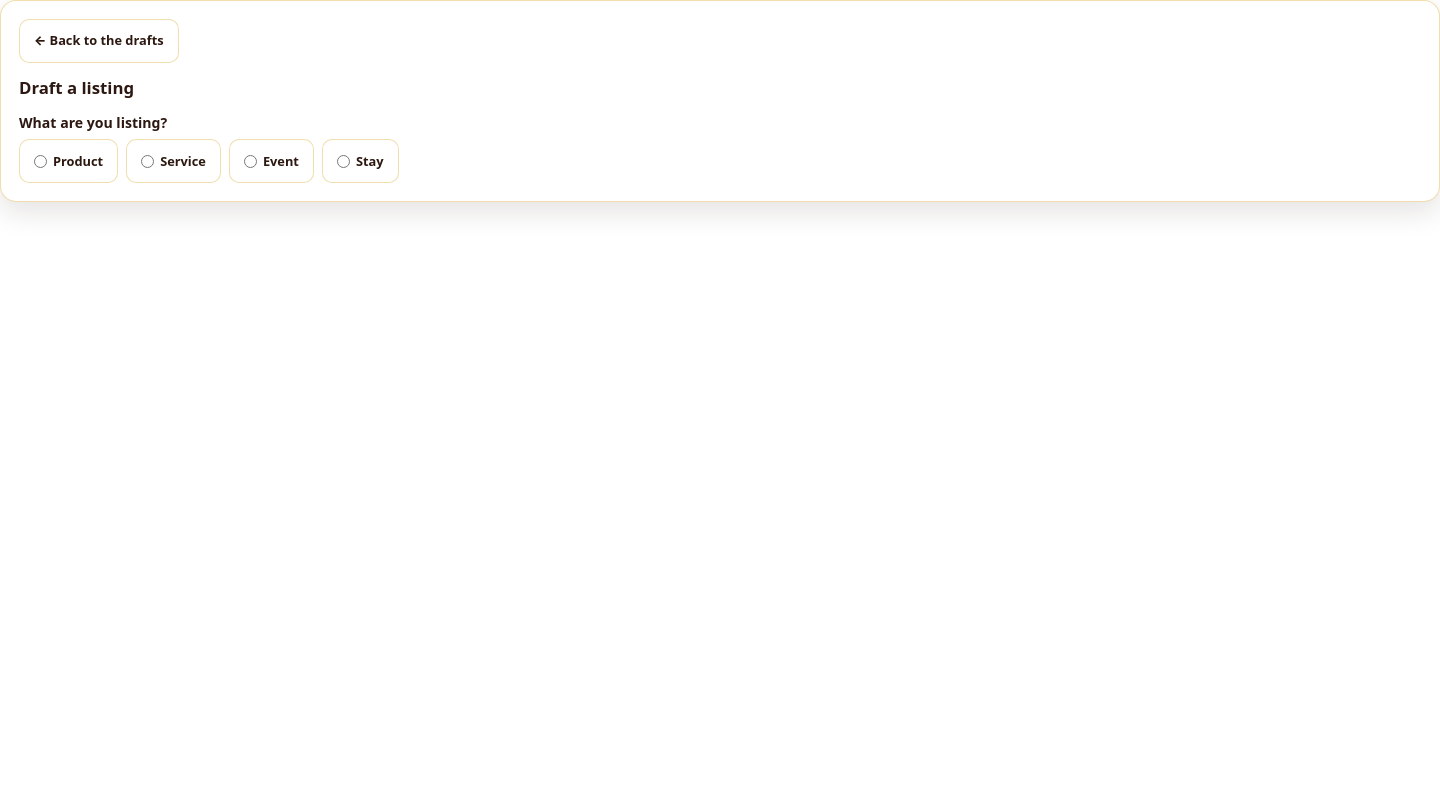
Test: ClientListingForm › asks the warranty, expiry and returns questions for a Product
The image size is (1440, 800).
What coordinates should you click on to do the following:
click the radio button labelled "Product"
I would click on:
 (40, 161)
Its box is x1=34 y1=155 x2=47 y2=168.
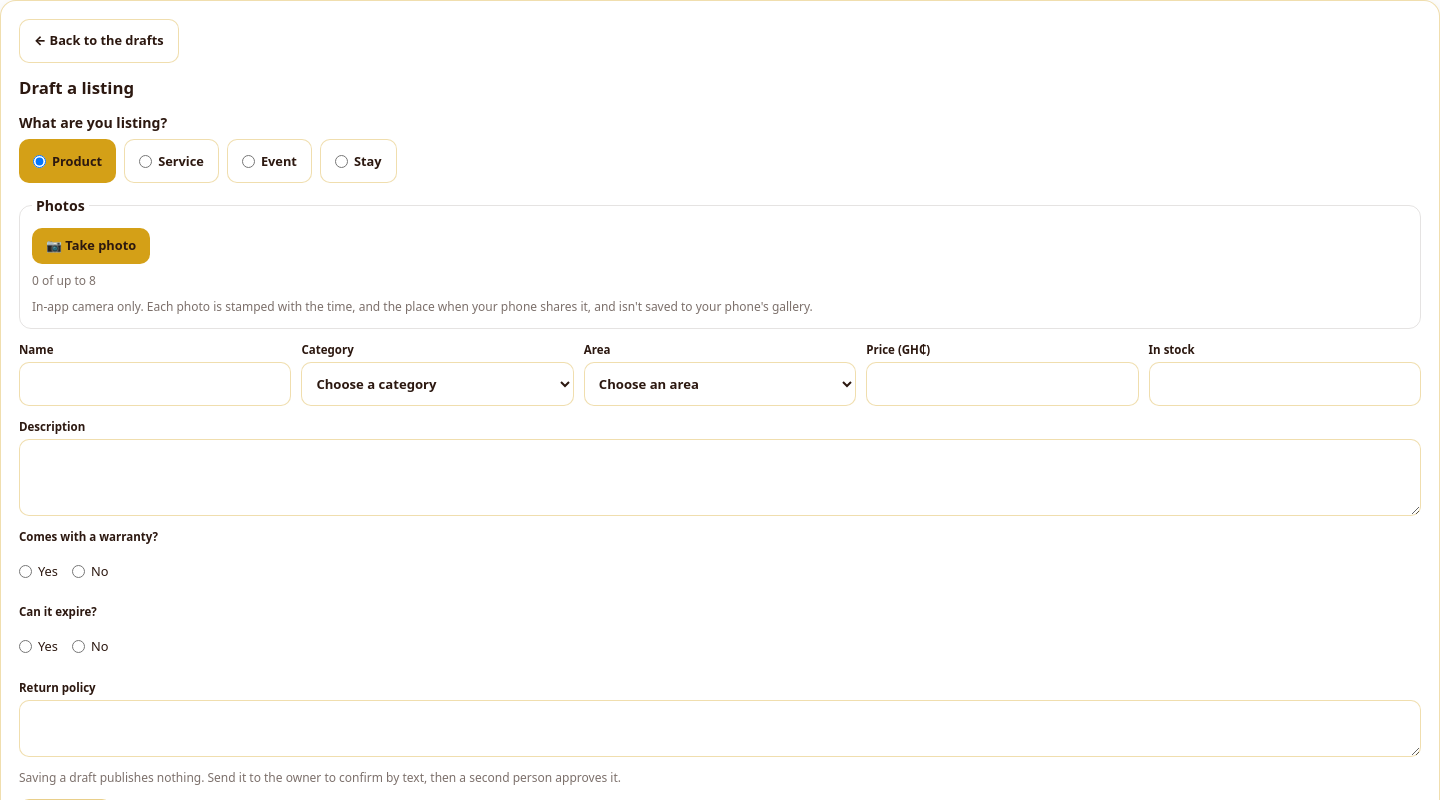
Now the element "Comes with a warranty?" is shown, box x1=19 y1=529 x2=158 y2=580
Now the element "Can it expire?" is shown, box x1=19 y1=604 x2=108 y2=655
Now the text box labelled "Return policy" is shown, box x1=19 y1=700 x2=1421 y2=757
